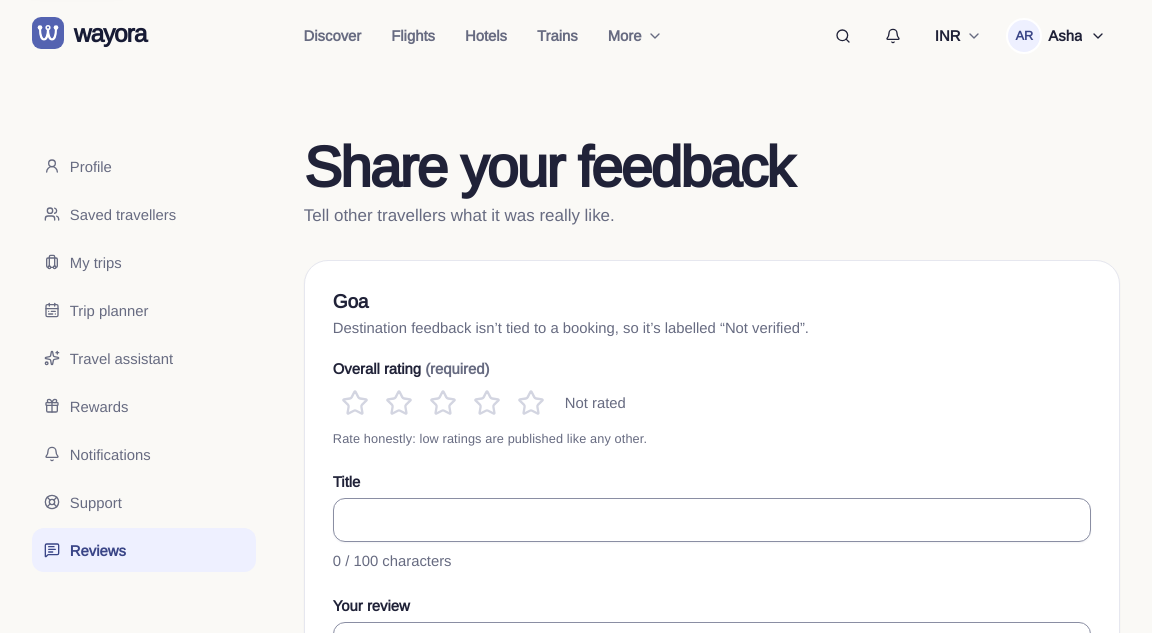
it: writing and editing › shows field errors from the server
Check: the element "Goa" shows "“Not verified”", box top-left (333, 318), bottom-right (809, 336)
Step 1. Click the radio button named "5 stars" → (531, 403), box top-left (517, 389), bottom-right (545, 417)
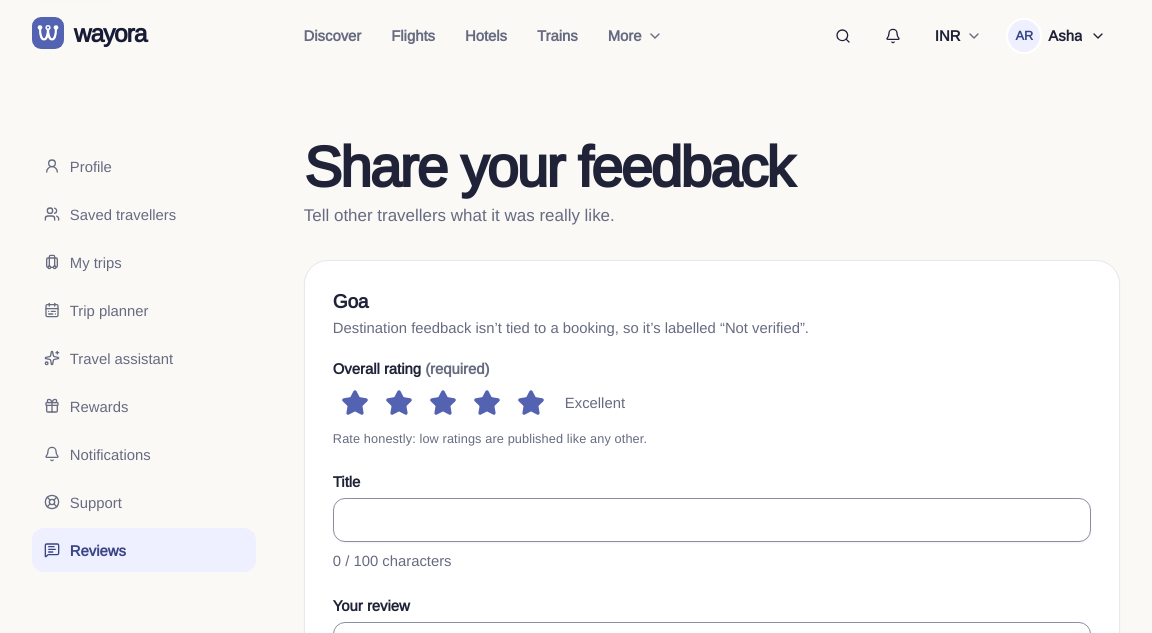
Step 2. Type "Lovely" into the field labelled "Title" → (712, 520), box top-left (348, 499), bottom-right (1076, 541)
(page scrolled)
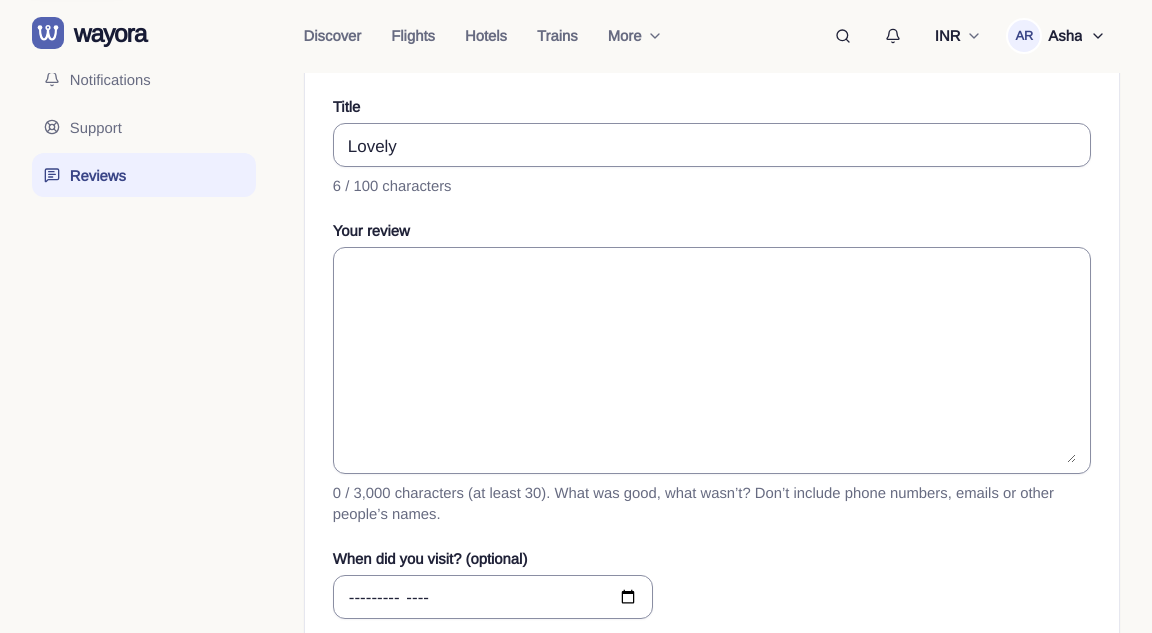
Step 3. Type "A long enough text, but the server says no to it." into the text box labelled "Your review" → (712, 360), box top-left (348, 258), bottom-right (1076, 463)
(page scrolled)
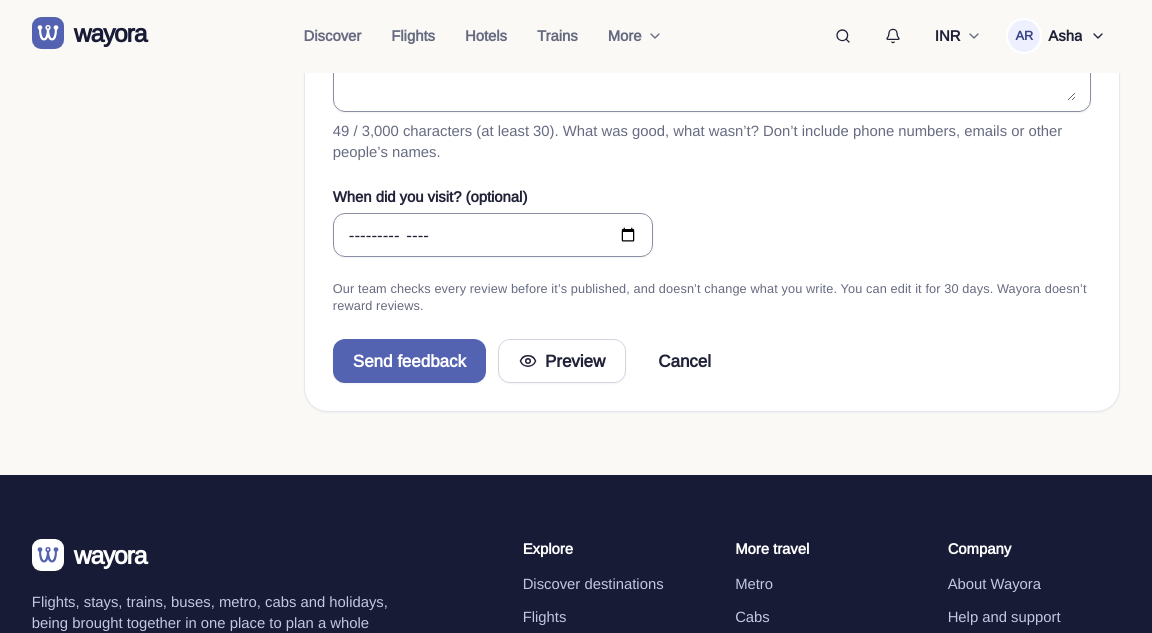
Step 4. Click the button "Send feedback" → (409, 361), box top-left (333, 339), bottom-right (486, 383)
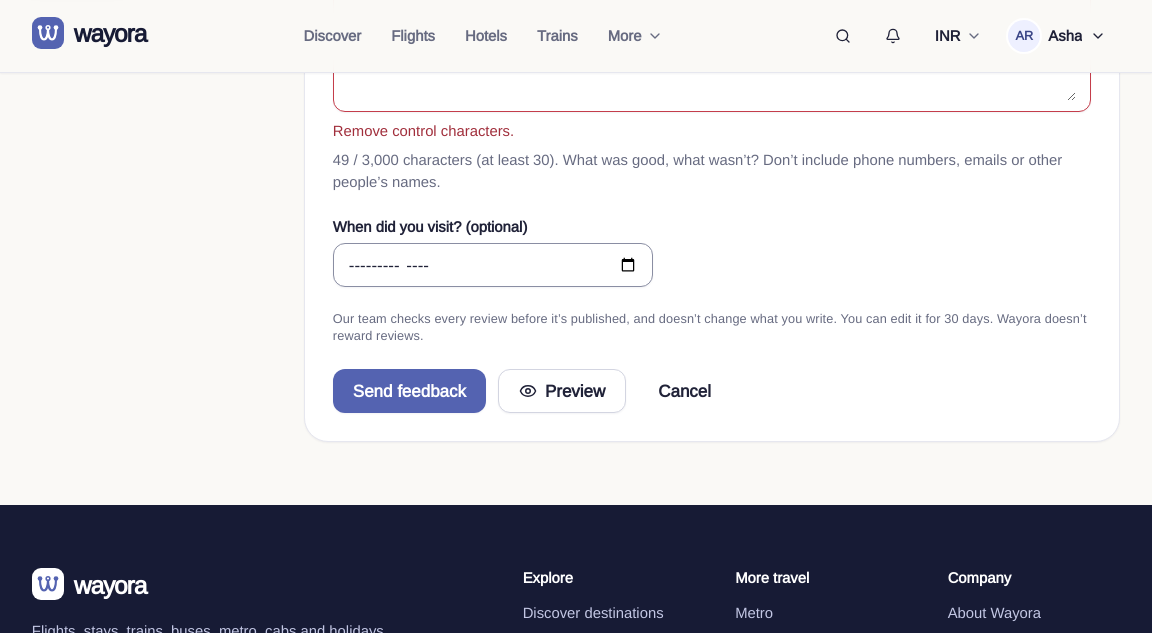
Check: the text "Remove control characters." is shown, box top-left (333, 121), bottom-right (514, 139)
